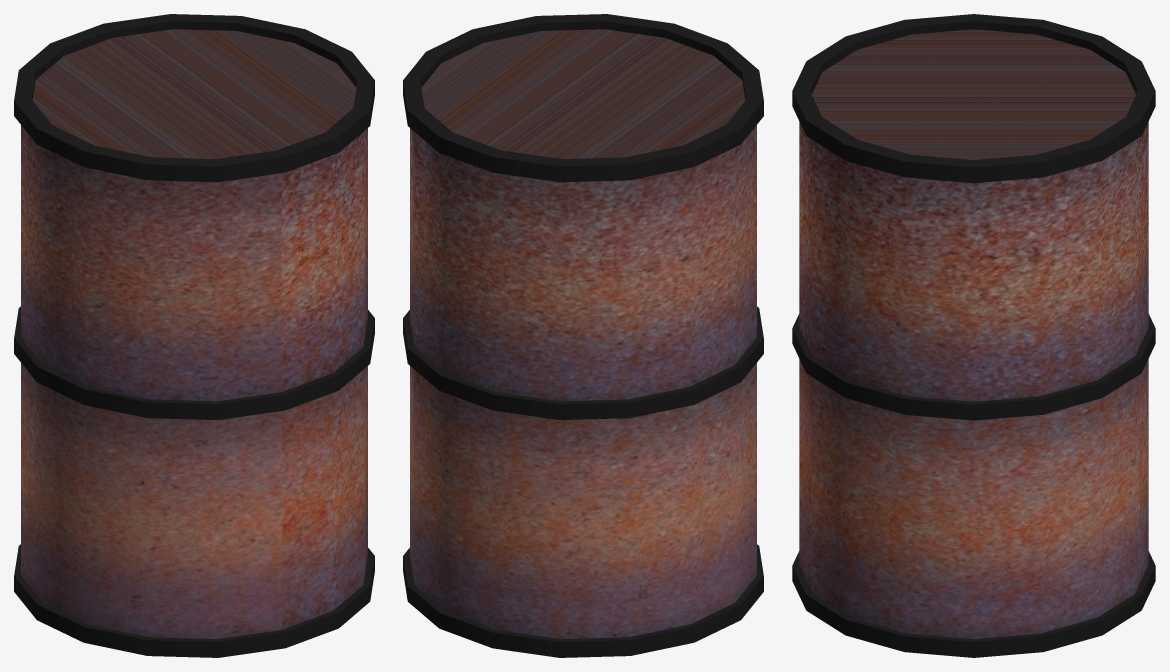
The model's file is Drum.fbx.
The picture shows the model from 3 angles, left to right: view 1: azimuth 30°, elevation 25°; view 2: azimuth 150°, elevation 25°; view 3: azimuth 270°, elevation 25°; orthographic projection.
Visible parts, largest first — view 1: mqo_mesh; view 2: mqo_mesh; view 3: mqo_mesh.
Boxes of the visible parts, bbox=[...] form: mqo_mesh: bbox=[14, 14, 374, 657]; mqo_mesh: bbox=[403, 14, 763, 657]; mqo_mesh: bbox=[792, 14, 1155, 657].
Size of the model in its own units: 104 by 155 by 104.
